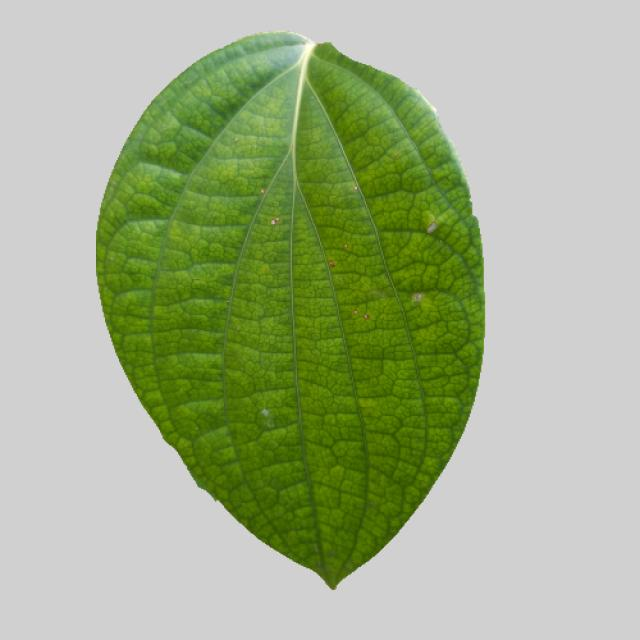healthy: (92, 31, 491, 596)
